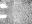person: (0, 2, 7, 9), (1, 13, 6, 18)
